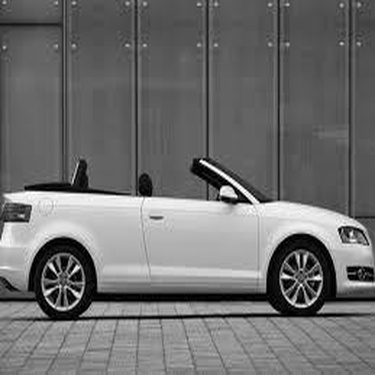car: (10, 153, 365, 315)
